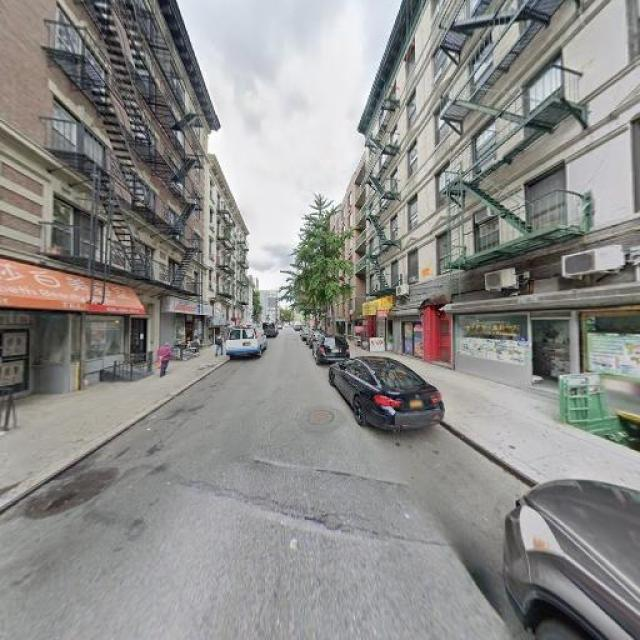Building: (429, 1, 640, 440), (1, 1, 205, 404)
